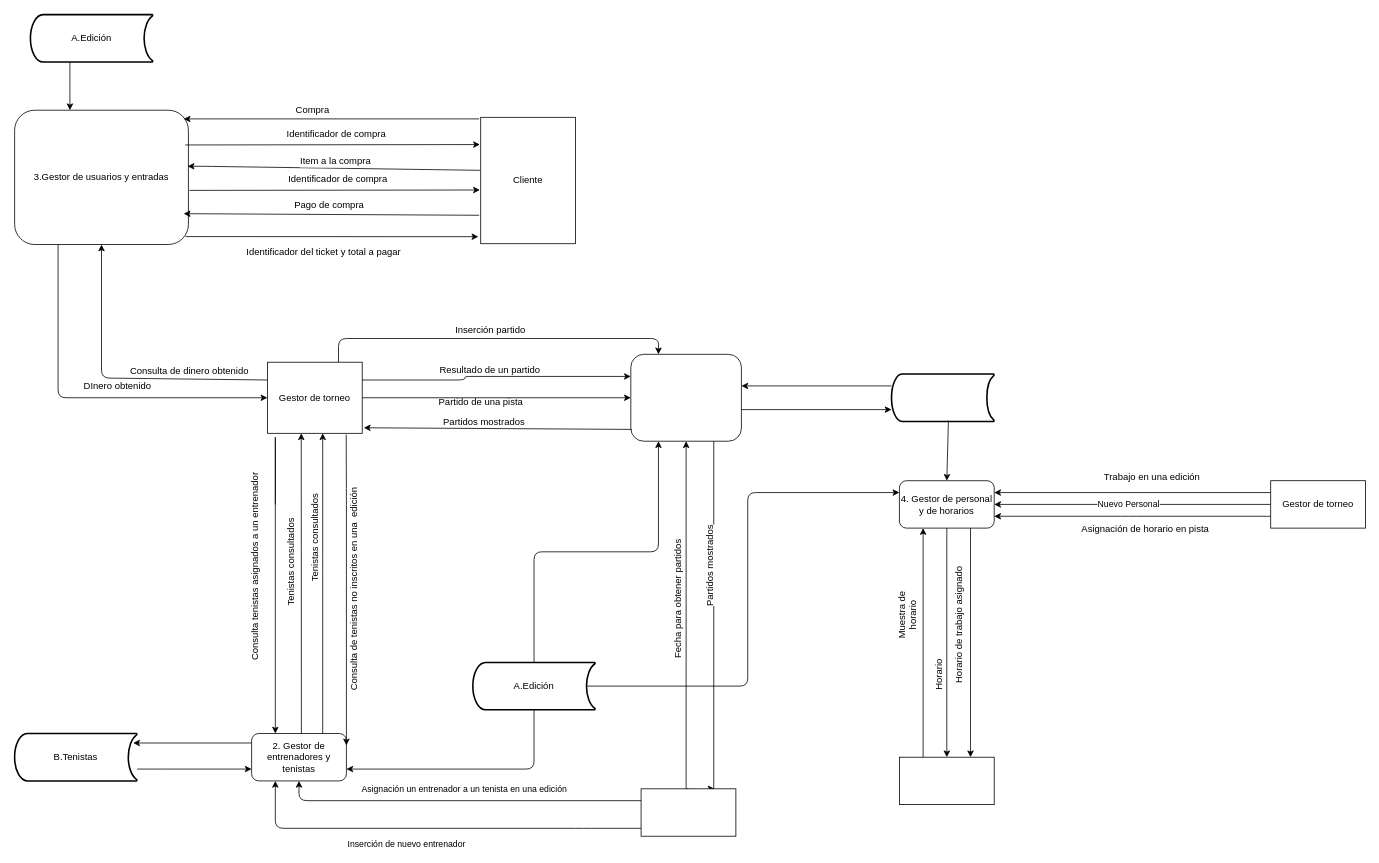
This 1379x863 diagram has some shape labels left out. The shapes that lost their labels are listed below. From the top down, each one's box as (x1, y1, x2, y2) in pixels, then its label:
(630, 354, 741, 441): 1. Gestor de partidos y pistas
(890, 373, 995, 422): C. Pistas
(899, 756, 994, 805): Trabajador
(640, 788, 736, 836): Entrenador
